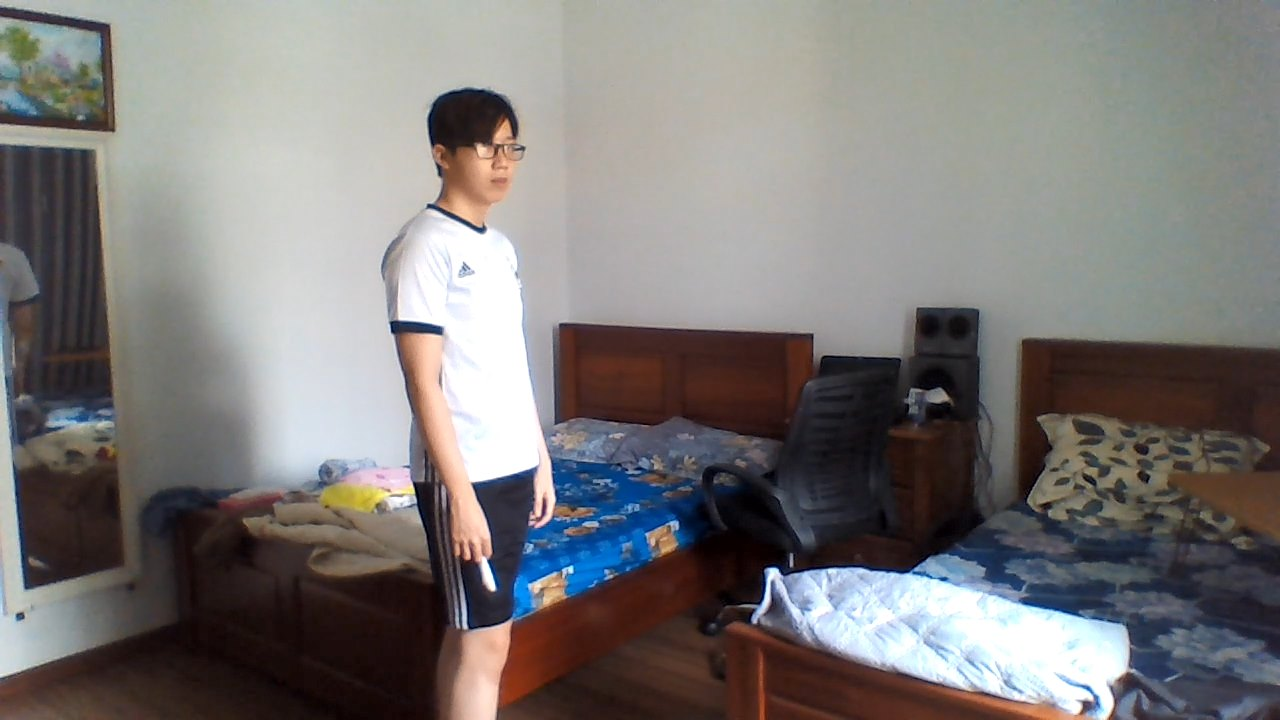cigarette: (472, 556, 497, 596)
person: (347, 76, 565, 720)
